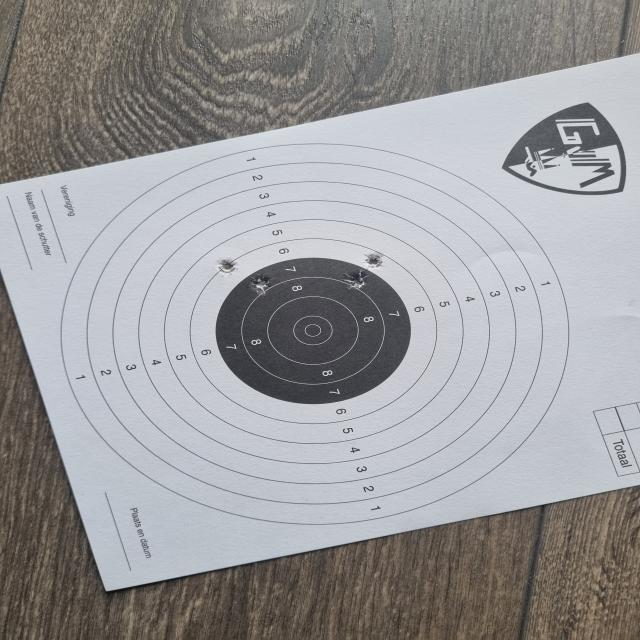7: (212, 257, 240, 275), (362, 249, 382, 269)
9: (245, 274, 272, 296), (341, 269, 369, 290)
Black Contour: (216, 258, 412, 404)
Target: (61, 142, 570, 526)
